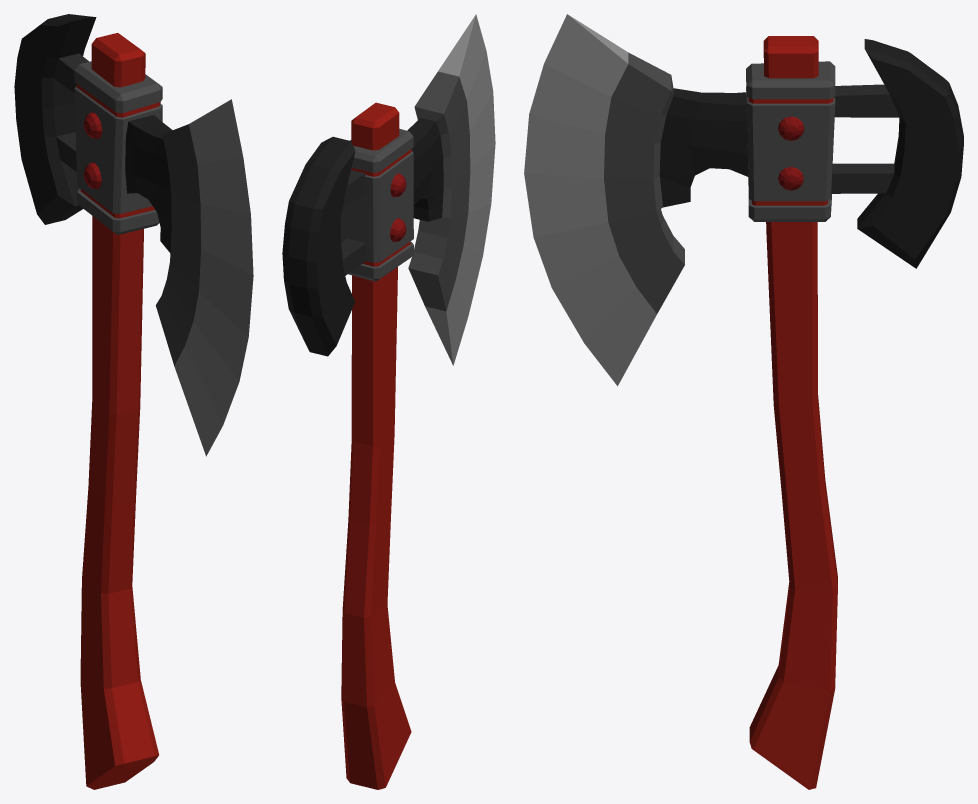
File: Axe02.glb
3 renders of one model, left to right at view 1: azimuth 30°, elevation 25°; view 2: azimuth 150°, elevation 25°; view 3: azimuth 270°, elevation 25°, orthographic. The views are drawn at different scales.
Visible parts, largest first — view 1: Axe022; view 2: Axe022; view 3: Axe022.
Part boxes in pixels (x1,y1,x2,y2): Axe022: (14, 14, 253, 789); Axe022: (282, 14, 495, 789); Axe022: (524, 14, 963, 789).
Bounding box in the file's own units: 0.144 × 1.64 × 0.8481.
Materials: 1 (1 with a texture image).
